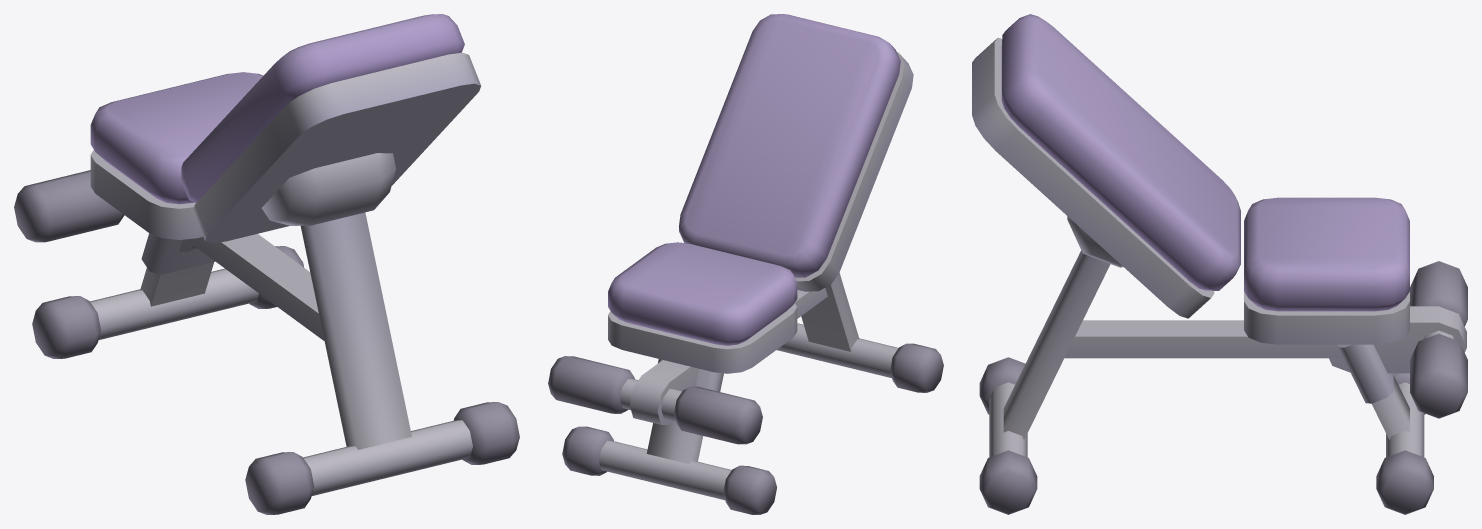
File: fitness-bench-seated.glb
The picture shows the model from 3 angles, left to right: view 1: azimuth 30°, elevation 25°; view 2: azimuth 150°, elevation 25°; view 3: azimuth 270°, elevation 25°; orthographic projection. The views are drawn at different scales.
Visible parts, largest first — view 1: fitness-bench-seated; view 2: fitness-bench-seated; view 3: fitness-bench-seated.
Boxes of the visible parts, x1,y1,x2,y2 form: fitness-bench-seated: [14, 14, 519, 514]; fitness-bench-seated: [548, 14, 943, 514]; fitness-bench-seated: [972, 14, 1467, 514].
Bounding box in the file's own units: 0.4451 × 0.7651 × 0.8221.
